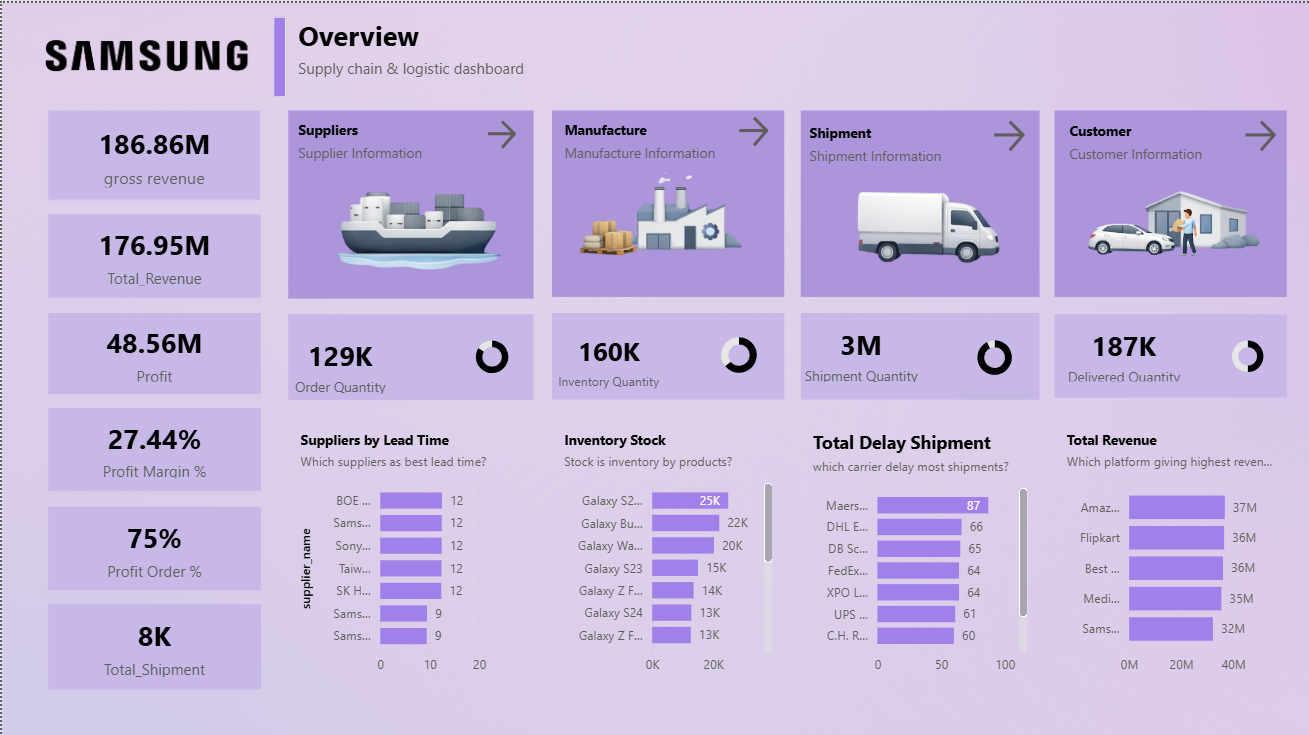

The dashboard page shown, as its layout file describes it:
{"tool":"powerbi","page":{"name":"Page 1","canvas":[1280,720],"ordinal":0},"visuals":[{"type":"shape","box":[280,105,240,183.8],"z":0},{"type":"shape","box":[537.5,105,227.5,182.5],"z":1000},{"type":"shape","box":[781.2,105,233.8,182.5],"z":2000},{"type":"shape","box":[1030,105,227.5,182.5],"z":3000},{"type":"image","box":[305,133.8,197.5,160],"z":4000},{"type":"image","box":[542.5,96.2,192.5,215],"z":5000},{"type":"image","box":[818.8,122.5,170,182.5],"z":6000},{"type":"image","box":[1050,112.5,200,201.2],"z":7000},{"type":"actionButton","box":[715,106.2,101.2,38.8],"z":8000},{"type":"actionButton","box":[1210,110,65,40],"z":9000},{"type":"actionButton","box":[470,110,100,37.5],"z":10000},{"type":"actionButton","box":[965,110,100,40],"z":11000},{"type":"shape","title":"Suppliers","box":[290,115,197.5,65],"z":12000},{"type":"shape","title":"Customer ","box":[1043.8,116.2,198.8,65],"z":13000},{"type":"shape","title":"Shipment","box":[790,117.5,198.8,65],"z":14000},{"type":"shape","title":"Manufacture","box":[550,115,201.2,65],"z":15000},{"type":"shape","title":"Overview","box":[290,13.8,227.5,78.8],"z":16000},{"type":"shape","box":[265,13.8,12.5,78.8],"z":17000},{"type":"image","box":[22.5,10,230,82.5],"z":18000},{"type":"card","fields":{"Values":["MeasuresTable.Total_Revenue"]},"box":[45.2,206.7,207.9,81.9],"z":19000},{"type":"card","fields":{"Values":["MeasuresTable.Profit"]},"box":[45.2,303.3,207.9,79.5],"z":20000},{"type":"card","fields":{"Values":["MeasuresTable.Profit Margin %"]},"box":[45.2,396.2,207.9,80.7],"z":21000},{"type":"card","fields":{"Values":["MeasuresTable.Profit_Order %"]},"box":[45.2,492.8,207.9,81.9],"z":22000},{"type":"card","fields":{"Values":["MeasuresTable.Total_Shipment"]},"box":[45.2,588.2,207.9,83.2],"z":23000},{"type":"card","fields":{"Values":["Sum(fact_sales.gross revenue)"]},"box":[45,105,207.5,87.5],"z":24000},{"type":"shape","box":[280,305,240,83.8],"z":25000},{"type":"shape","box":[537.5,303.8,227.5,85],"z":26000},{"type":"shape","box":[781.2,303.8,233.8,85],"z":27000},{"type":"shape","box":[1030,305,227.5,81.2],"z":28000},{"type":"card","fields":{"Values":["MeasuresTable.Order QTY"]},"box":[271.2,313.8,118.8,80],"z":29000},{"type":"card","fields":{"Values":["Measure Table.Total_Delivered_Quantity"]},"box":[1015,307.5,165,75],"z":30000},{"type":"card","fields":{"Values":["Measure Table.Total_ShipMent_Quantity"]},"box":[766.2,305,147.5,78.8],"z":31000},{"type":"card","fields":{"Values":["MeasuresTable.Inventory_Value"]},"box":[517.5,310,152.5,78.8],"z":32000},{"type":"clusteredBarChart","title":"Suppliers by Lead Time","fields":{"Y":["Measure Table.Average_Load_Time"],"Category":["dim_supplier.supplier_name"]},"box":[280,406.2,237.5,266.2],"z":33000},{"type":"clusteredBarChart","title":"Inventory Stock","fields":{"Category":["dim_product.product_name"],"Y":["Measure Table.Inventory_Value"]},"box":[537.5,406.2,227.5,266.2],"z":34000},{"type":"clusteredBarChart","title":"Total Delay Shipment","fields":{"Y":["Measure Table.Total_Delay"],"Category":["fact_shipment.carrier"]},"box":[781.2,406.2,233.8,266.2],"z":35000},{"type":"clusteredBarChart","title":"Total Revenue ","fields":{"Y":["Measure Table.Total_Revenue"],"Category":["dim_customer.customer_name"]},"box":[1030,406.2,227.5,266.2],"z":36000},{"type":"donutChart","fields":{"Y":["Measure Table.Inventory_Value","Measure Table.Saftey_Stock"]},"box":[687.5,308.8,67.5,72.5],"z":37000},{"type":"donutChart","fields":{"Y":["Measure Table.Order QTY","Measure Table.Defect_Rate"]},"box":[447.5,312.5,63.8,66.2],"z":38000},{"type":"donutChart","fields":{"Y":["Measure Table.Total_Shipment","Measure Table.Total_Delay"]},"box":[937.5,311.2,66.2,70],"z":39000},{"type":"donutChart","fields":{"Y":["Measure Table.Total_Delivered_Quantity","Measure Table.Total_QTY_Delay"]},"box":[1187.5,308.8,62.5,75],"z":40000}]}

Visuals, with their boxes in screenshot pixels (x1, y1, x2, y2), scaled from the page's 1280x720 canvas onto the 1309x735 screenshot:
shape: [x1=286, y1=107, x2=532, y2=295]
shape: [x1=550, y1=107, x2=782, y2=293]
shape: [x1=799, y1=107, x2=1038, y2=293]
shape: [x1=1053, y1=107, x2=1286, y2=293]
image: [x1=312, y1=137, x2=514, y2=300]
image: [x1=555, y1=98, x2=752, y2=318]
image: [x1=837, y1=125, x2=1011, y2=311]
image: [x1=1074, y1=115, x2=1278, y2=320]
actionButton: [x1=731, y1=108, x2=835, y2=148]
actionButton: [x1=1237, y1=112, x2=1304, y2=153]
actionButton: [x1=481, y1=112, x2=583, y2=151]
actionButton: [x1=987, y1=112, x2=1089, y2=153]
"Suppliers" shape: [x1=297, y1=117, x2=499, y2=184]
"Customer " shape: [x1=1067, y1=119, x2=1271, y2=185]
"Shipment" shape: [x1=808, y1=120, x2=1011, y2=186]
"Manufacture" shape: [x1=562, y1=117, x2=768, y2=184]
"Overview" shape: [x1=297, y1=14, x2=529, y2=95]
shape: [x1=271, y1=14, x2=284, y2=95]
image: [x1=23, y1=10, x2=258, y2=94]
card - MeasuresTable.Total_Revenue: [x1=46, y1=211, x2=259, y2=295]
card - MeasuresTable.Profit: [x1=46, y1=310, x2=259, y2=391]
card - MeasuresTable.Profit Margin %: [x1=46, y1=404, x2=259, y2=487]
card - MeasuresTable.Profit_Order %: [x1=46, y1=503, x2=259, y2=587]
card - MeasuresTable.Total_Shipment: [x1=46, y1=600, x2=259, y2=685]
card - Sum(fact_sales.gross revenue): [x1=46, y1=107, x2=258, y2=197]
shape: [x1=286, y1=311, x2=532, y2=397]
shape: [x1=550, y1=310, x2=782, y2=397]
shape: [x1=799, y1=310, x2=1038, y2=397]
shape: [x1=1053, y1=311, x2=1286, y2=394]
card - MeasuresTable.Order QTY: [x1=277, y1=320, x2=399, y2=402]
card - Measure Table.Total_Delivered_Quantity: [x1=1038, y1=314, x2=1207, y2=390]
card - Measure Table.Total_ShipMent_Quantity: [x1=784, y1=311, x2=934, y2=392]
card - MeasuresTable.Inventory_Value: [x1=529, y1=316, x2=685, y2=397]
"Suppliers by Lead Time" clusteredBarChart: [x1=286, y1=415, x2=529, y2=686]
"Inventory Stock" clusteredBarChart: [x1=550, y1=415, x2=782, y2=686]
"Total Delay Shipment" clusteredBarChart: [x1=799, y1=415, x2=1038, y2=686]
"Total Revenue " clusteredBarChart: [x1=1053, y1=415, x2=1286, y2=686]
donutChart - Measure Table.Inventory_Value x Measure Table.Saftey_Stock: [x1=703, y1=315, x2=772, y2=389]
donutChart - Measure Table.Order QTY x Measure Table.Defect_Rate: [x1=458, y1=319, x2=523, y2=387]
donutChart - Measure Table.Total_Shipment x Measure Table.Total_Delay: [x1=959, y1=318, x2=1026, y2=389]
donutChart - Measure Table.Total_Delivered_Quantity x Measure Table.Total_QTY_Delay: [x1=1214, y1=315, x2=1278, y2=392]
